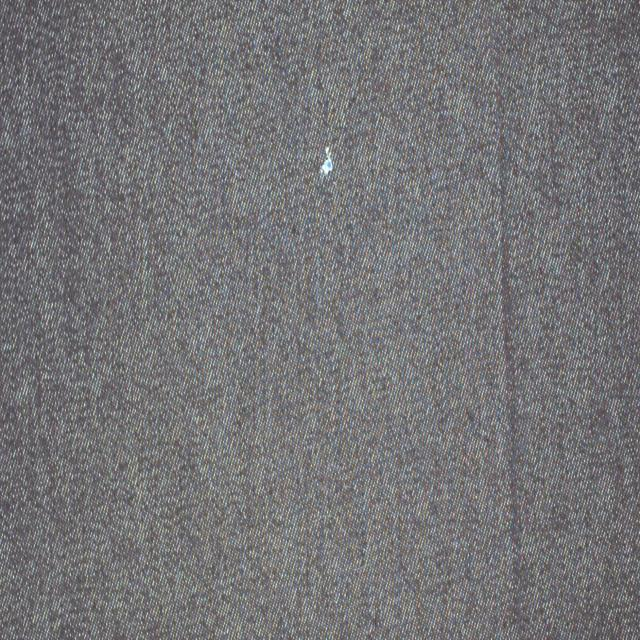Knot: (320, 146, 334, 176)
